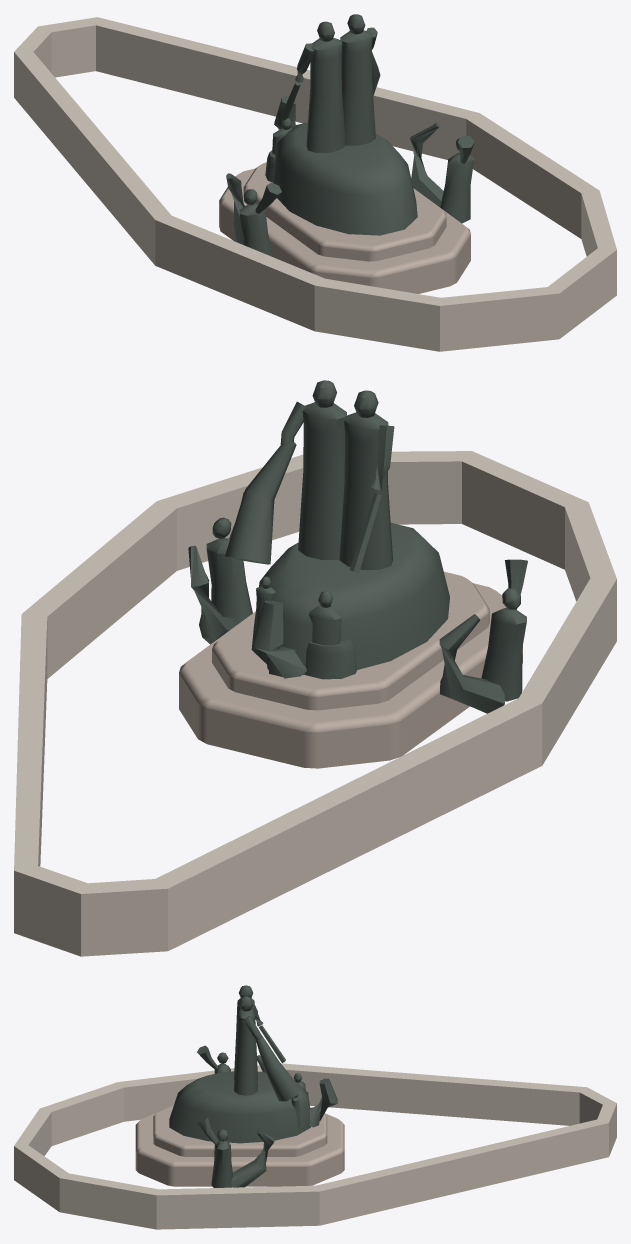
3 renders of one model, top to bottom at view 1: azimuth 30°, elevation 25°; view 2: azimuth 150°, elevation 25°; view 3: azimuth 270°, elevation 25°, orthographic. The views are drawn at different scales.
Parts seen in each view (by area): view 1: bailey-fountain; view 2: bailey-fountain; view 3: bailey-fountain.
Part boxes in pixels (x1,y1,x2,y2): bailey-fountain: (14, 14, 616, 351); bailey-fountain: (14, 380, 616, 956); bailey-fountain: (14, 985, 616, 1229).
Bounding box in the file's own units: 10.79 × 6.33 × 20.78.
